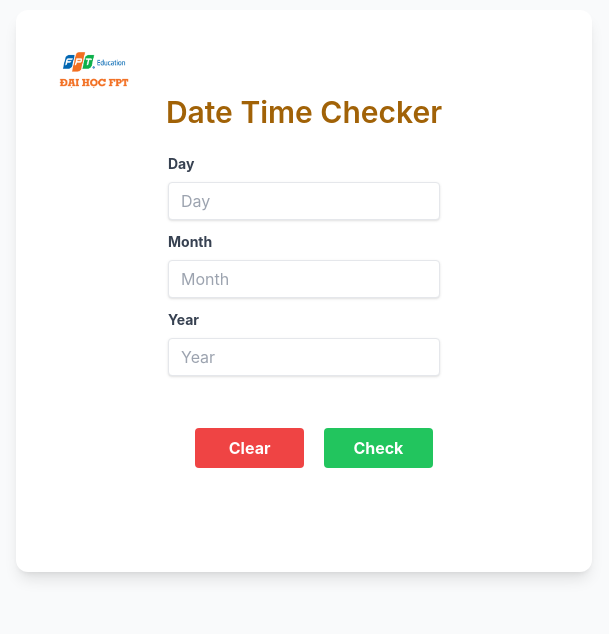
Check function: › should show error when the input field is not a positive number
In the field with placeholder "Day": (304, 201) [168,182,440,220], type "abc"
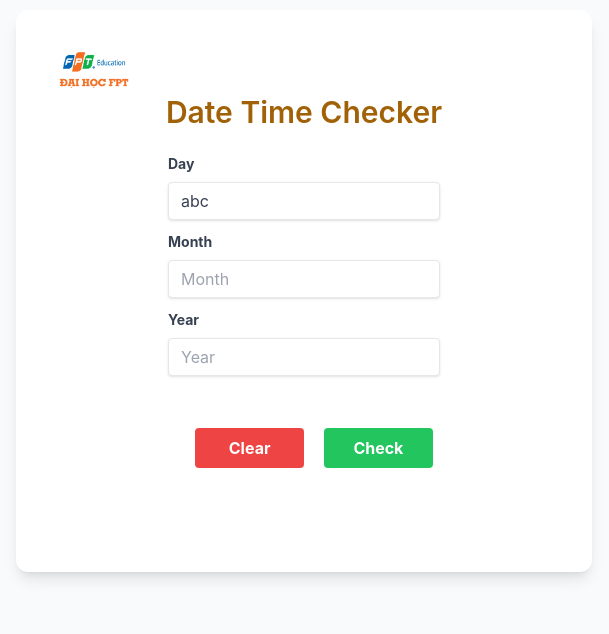
In the field with placeholder "Month": (304, 279) [168,260,440,298], type "xyz"
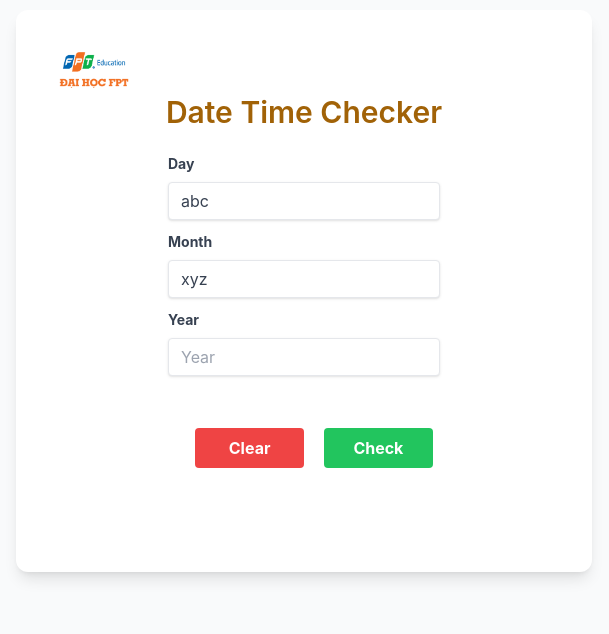
In the field with placeholder "Year": (304, 357) [168,338,440,376], type "avb"
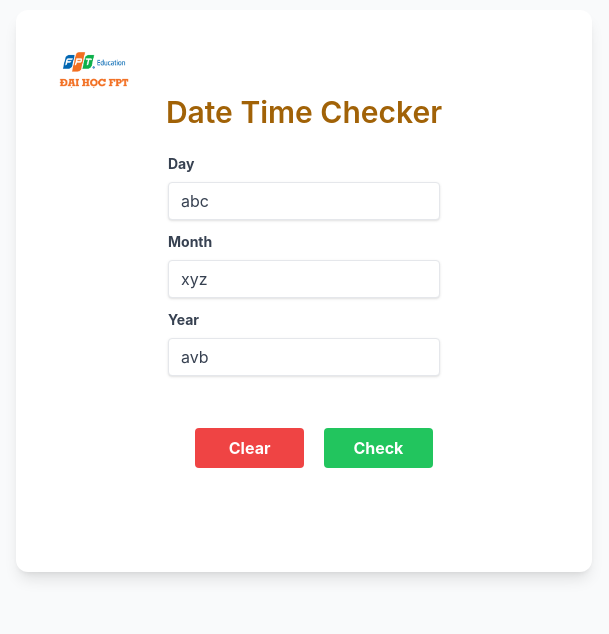
Click the button "Check": (379, 448) [324,428,433,468]
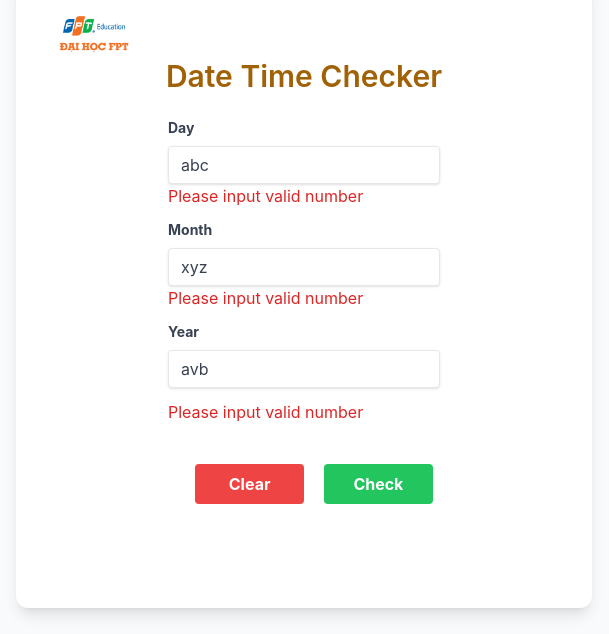
Now the text with class "error-message" below "Day" reads "Please input valid number", box [168,186,363,206]
Now the text with class "error-message" below "Month" reads "Please input valid number", box [168,288,363,308]
Now the text with class "error-message" below "Year" reads "Please input valid number", box [168,402,363,422]
